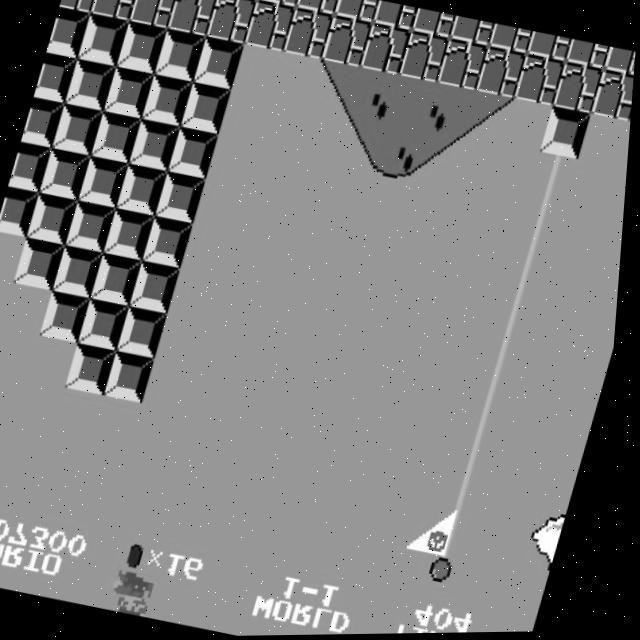11- little_mario: (112, 569, 165, 618)
17- undestructible_block: (360, 22, 413, 77), (398, 30, 451, 85), (553, 61, 606, 116), (282, 7, 335, 61), (321, 15, 374, 69), (437, 38, 490, 92), (475, 46, 528, 100), (514, 54, 567, 108), (244, 0, 297, 53), (205, 0, 258, 46), (591, 70, 636, 124), (166, 0, 218, 37), (127, 0, 179, 29), (410, 8, 457, 40), (449, 16, 496, 48), (487, 24, 534, 56), (372, 1, 419, 32), (526, 32, 573, 63), (565, 40, 612, 71), (332, 0, 379, 24), (89, 0, 140, 22), (603, 48, 637, 79), (294, 0, 340, 16), (58, 0, 100, 14), (255, 0, 301, 8)
7- goal_pole: (504, 241, 558, 295), (432, 510, 485, 565), (468, 375, 521, 430), (529, 151, 582, 206), (420, 555, 473, 609), (444, 465, 497, 519), (480, 331, 533, 385), (493, 286, 545, 340), (457, 421, 509, 474), (517, 197, 569, 250)
9- hard_block: (103, 65, 157, 119), (81, 297, 135, 351), (120, 305, 174, 359), (65, 57, 118, 112), (77, 12, 130, 67), (55, 244, 108, 299), (79, 154, 132, 209), (116, 20, 169, 75), (94, 252, 147, 307), (118, 162, 171, 217), (154, 28, 207, 83), (132, 260, 185, 315), (156, 170, 209, 225), (193, 36, 246, 91), (17, 237, 70, 291), (41, 147, 94, 201), (43, 289, 96, 343), (142, 73, 195, 127), (181, 81, 234, 135), (541, 107, 594, 161), (29, 192, 81, 246), (68, 200, 120, 254), (92, 110, 144, 164), (70, 342, 122, 396), (106, 208, 158, 262), (130, 118, 182, 172), (108, 350, 160, 404), (145, 216, 197, 270), (169, 126, 221, 180), (53, 103, 105, 156), (10, 141, 54, 194), (22, 97, 66, 149), (34, 52, 78, 104), (46, 7, 90, 59), (0, 186, 42, 239)
